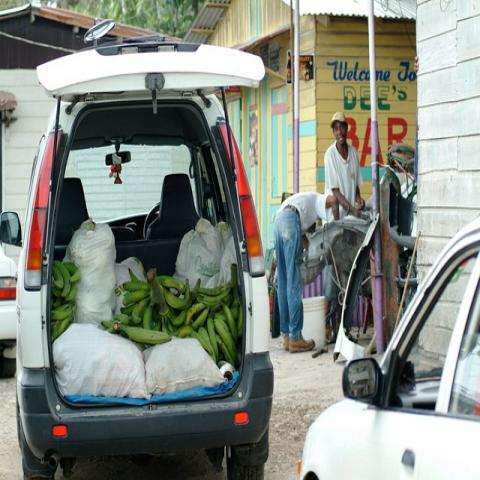car: (298, 214, 479, 479), (0, 246, 18, 379)
truck: (15, 40, 275, 474), (298, 204, 480, 473)
